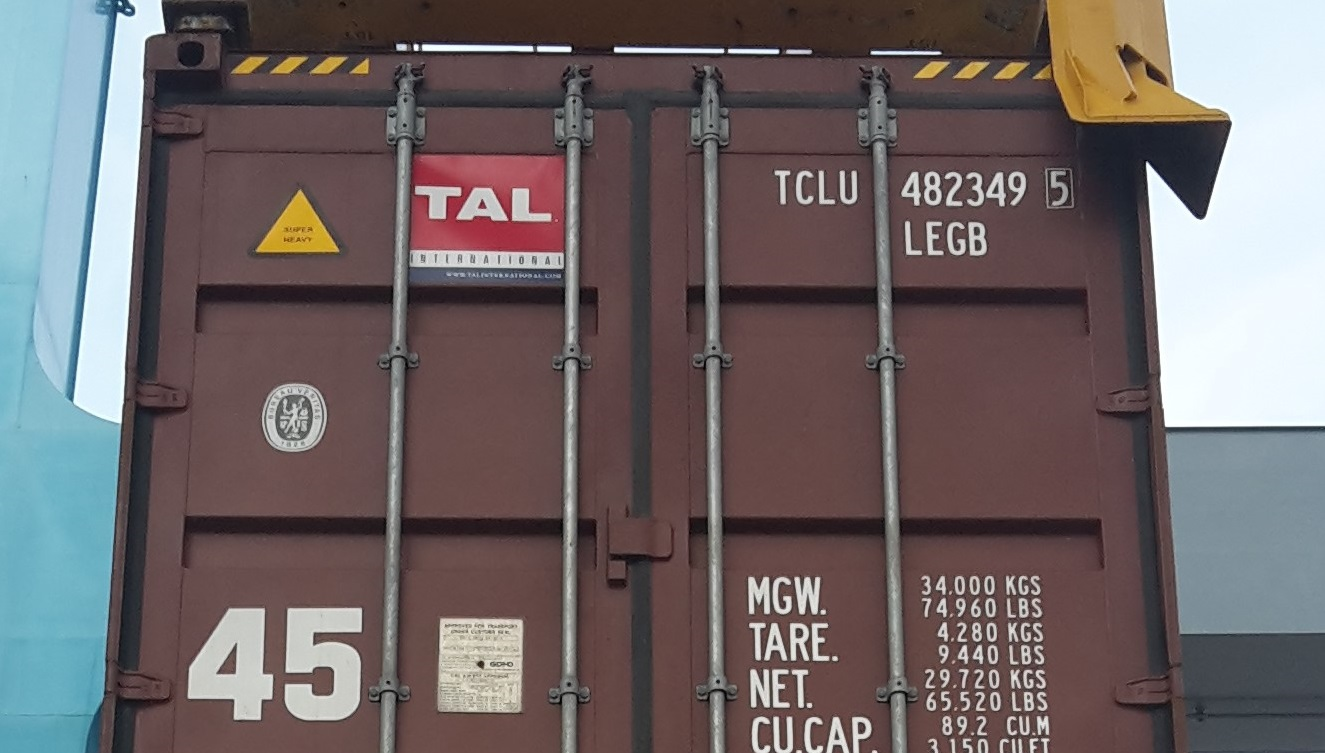container_door: (94, 24, 1189, 746)
